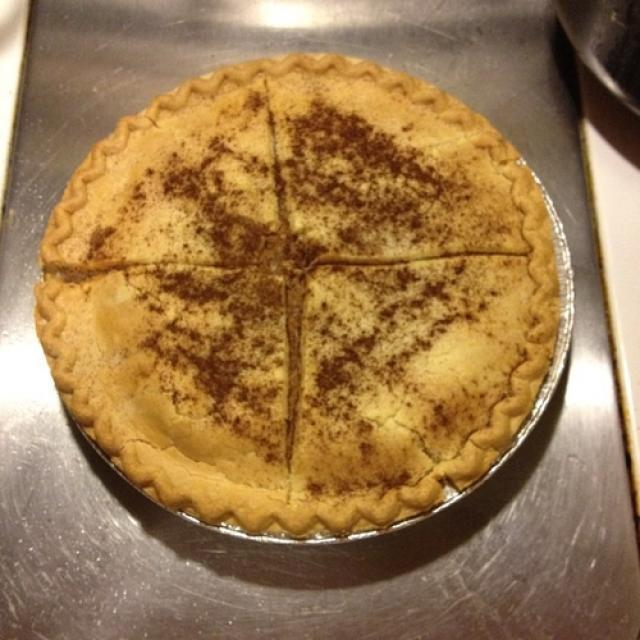Apple: (46, 64, 558, 514)
